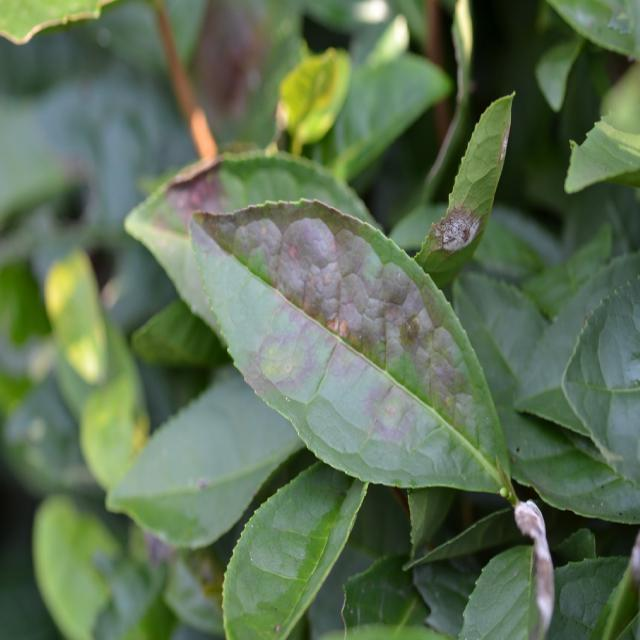Tea exobasidium blight: (190, 202, 447, 417), (159, 153, 231, 215), (426, 195, 482, 257), (485, 122, 520, 171)
